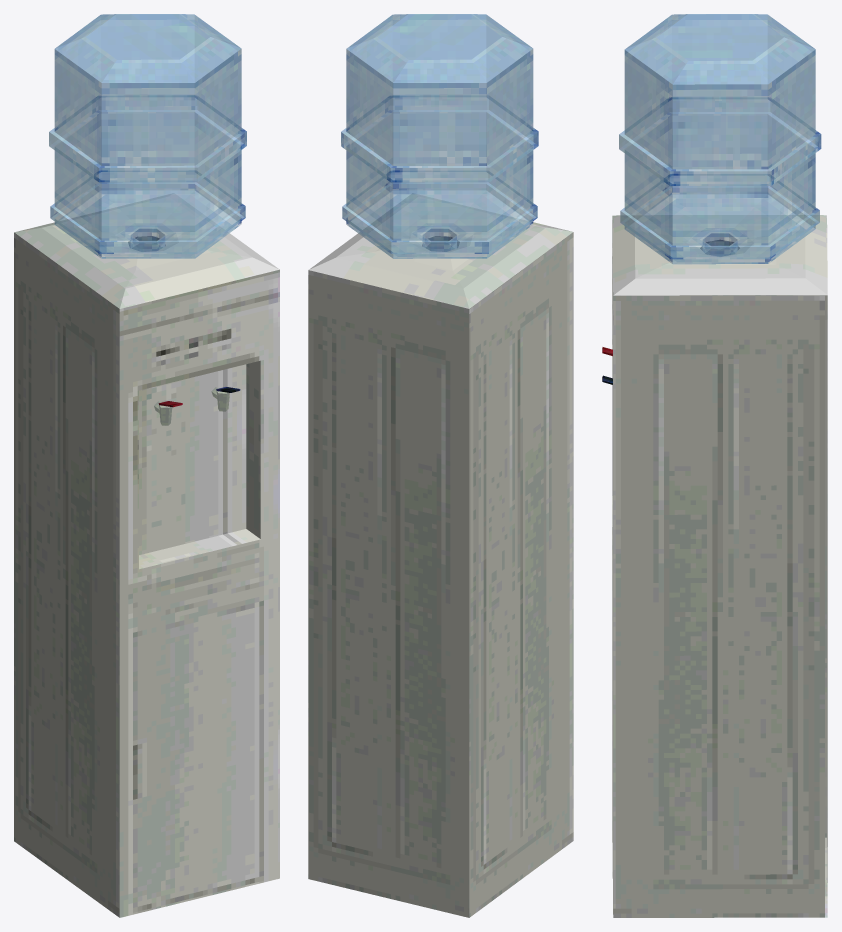
File: water_cooler_bottle_attached.glb
The picture shows the model from 3 angles, left to right: view 1: azimuth 30°, elevation 25°; view 2: azimuth 150°, elevation 25°; view 3: azimuth 270°, elevation 25°; orthographic projection. The views are drawn at different scales.
Parts seen in each view (by area): view 1: water_cooler_bottle_attached; view 2: water_cooler_bottle_attached; view 3: water_cooler_bottle_attached.
Part boxes in pixels (x1,y1,x2,y2): water_cooler_bottle_attached: (14, 14, 279, 917); water_cooler_bottle_attached: (308, 14, 573, 917); water_cooler_bottle_attached: (602, 14, 827, 917).
Size of the model in its own units: 0.3792 by 1.85 by 0.4498.
Materials: 1 (1 with a texture image).
